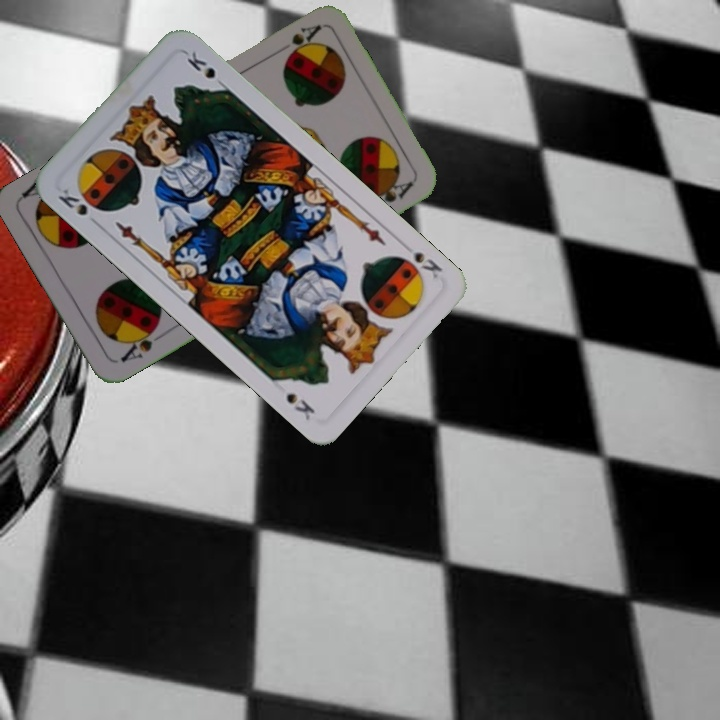SA: (116, 321, 167, 365), (280, 21, 324, 63)
SK: (397, 240, 445, 282), (54, 184, 90, 218)
